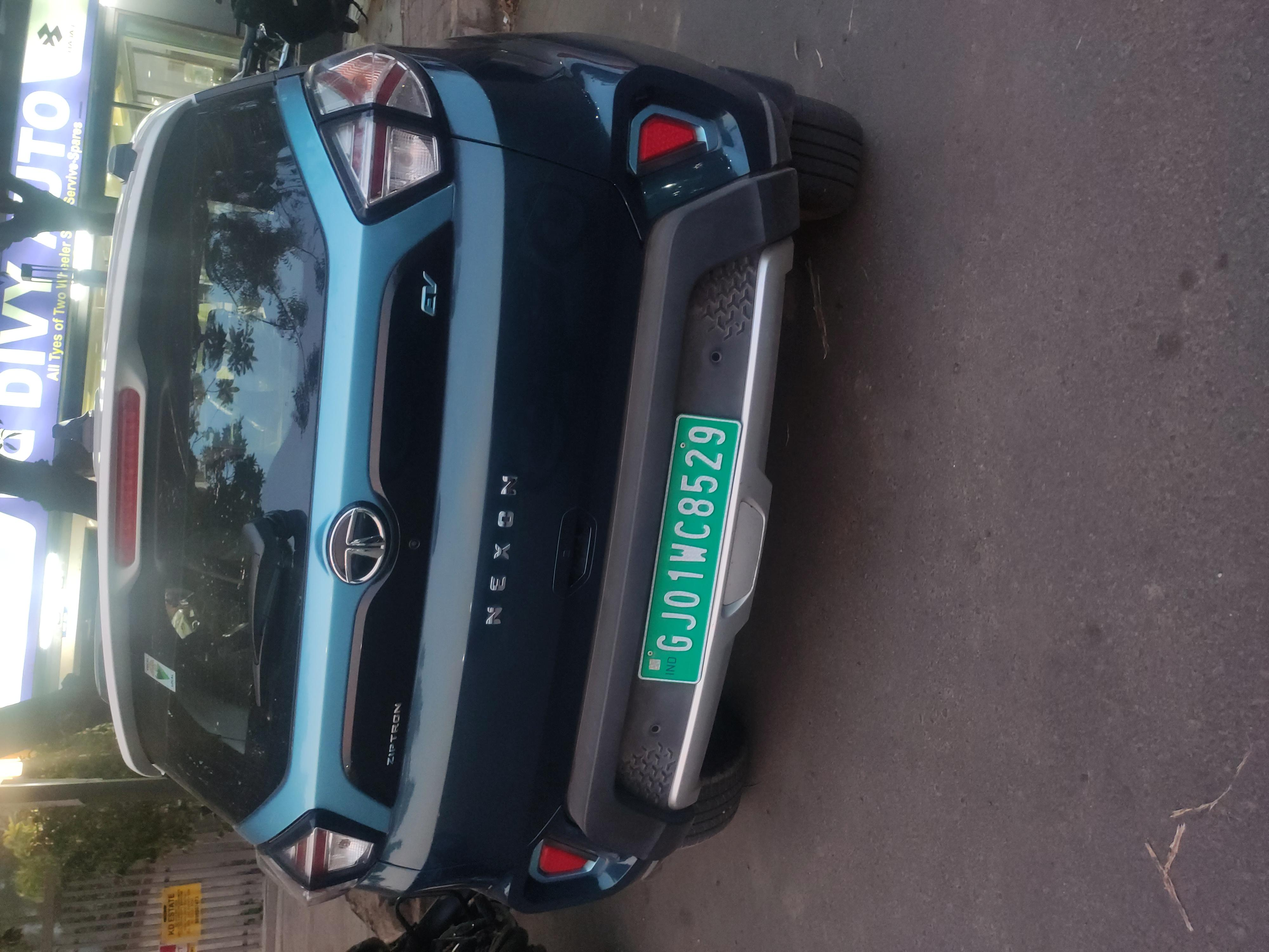green license plate: (350, 475, 725, 558)
